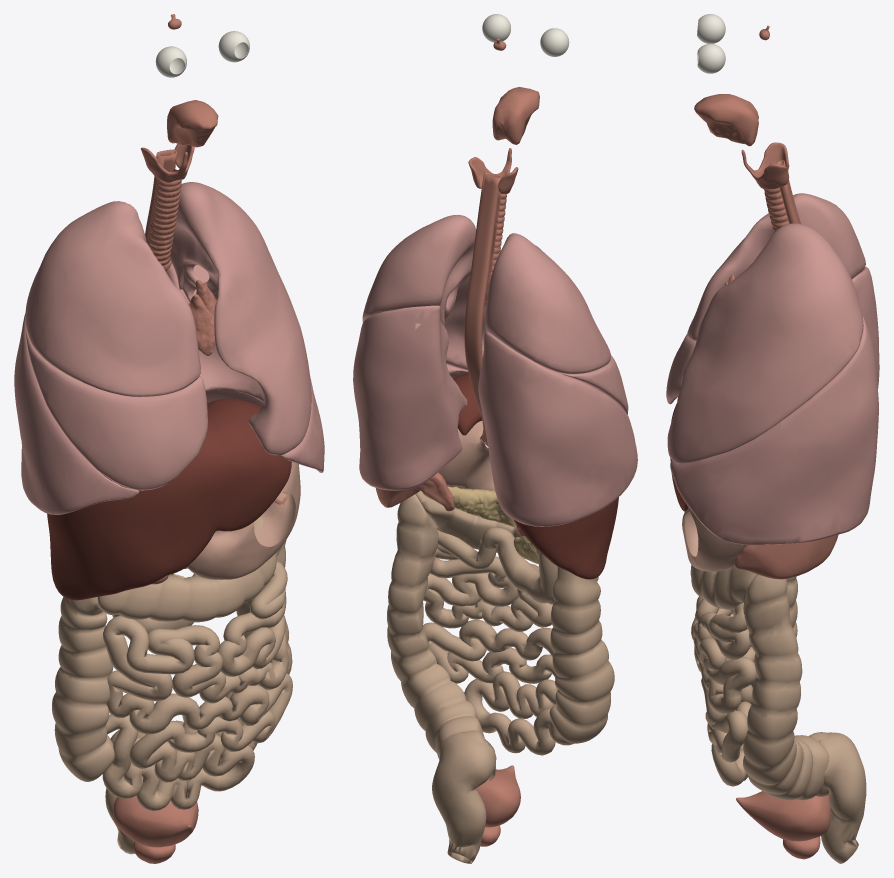
Rendered from organ.glb.
3 views of the same model, side by side, from view 1: azimuth 30°, elevation 25°; view 2: azimuth 150°, elevation 25°; view 3: azimuth 270°, elevation 25° (orthographic). The views are drawn at different scales.
Parts seen in each view (by area): view 1: lung_r, jejunum, lung_l, liver, colon_ascending, colon_transverse, stomach, bladder, trachea, tongue, thyroid, thymus_r (+6 smaller); view 2: lung_r, lung_l, jejunum, colon_descending, colon_ascending, colon_sigmoid, liver, esophagus, duodenum, stomach, colon_transverse, pancreas (+7 smaller); view 3: lung_l, colon_descending, jejunum, lung_r, colon_sigmoid, bladder, spleen, tongue, stomach, colon_transverse, thyroid, eye_l (+5 smaller).
Part boxes in pixels (box(x1,y1,x2,y2)): lung_r: box(14, 201, 207, 514); jejunum: box(102, 562, 292, 810); lung_l: box(166, 182, 324, 472); liver: box(47, 398, 291, 600); colon_ascending: box(52, 596, 114, 781); colon_transverse: box(97, 517, 281, 622); stomach: box(187, 462, 300, 579); bladder: box(113, 796, 198, 847); trachea: box(147, 169, 181, 271); tongue: box(167, 100, 218, 147); thyroid: box(141, 144, 194, 182); thymus_r: box(189, 294, 215, 355); lung_r: box(478, 233, 637, 526); lung_l: box(353, 214, 486, 490); jejunum: box(423, 530, 573, 755); colon_descending: box(387, 494, 496, 780); colon_ascending: box(549, 567, 614, 743); colon_sigmoid: box(432, 732, 496, 863); liver: box(452, 373, 618, 579); esophagus: box(464, 172, 500, 446); duodenum: box(481, 527, 557, 603); stomach: box(438, 420, 494, 490); colon_transverse: box(415, 490, 526, 559); pancreas: box(422, 486, 538, 564); lung_l: box(667, 223, 878, 544); colon_descending: box(743, 574, 829, 800); jejunum: box(691, 596, 756, 786); lung_r: box(666, 193, 879, 404); colon_sigmoid: box(819, 732, 866, 863); bladder: box(736, 791, 830, 841); spleen: box(734, 534, 838, 579); tongue: box(694, 94, 758, 146); stomach: box(682, 507, 747, 571); colon_transverse: box(690, 565, 756, 609); thyroid: box(741, 142, 789, 189); eye_l: box(697, 43, 725, 73).
Size of the model in its own units: 0.2609 by 0.804 by 0.1858.
